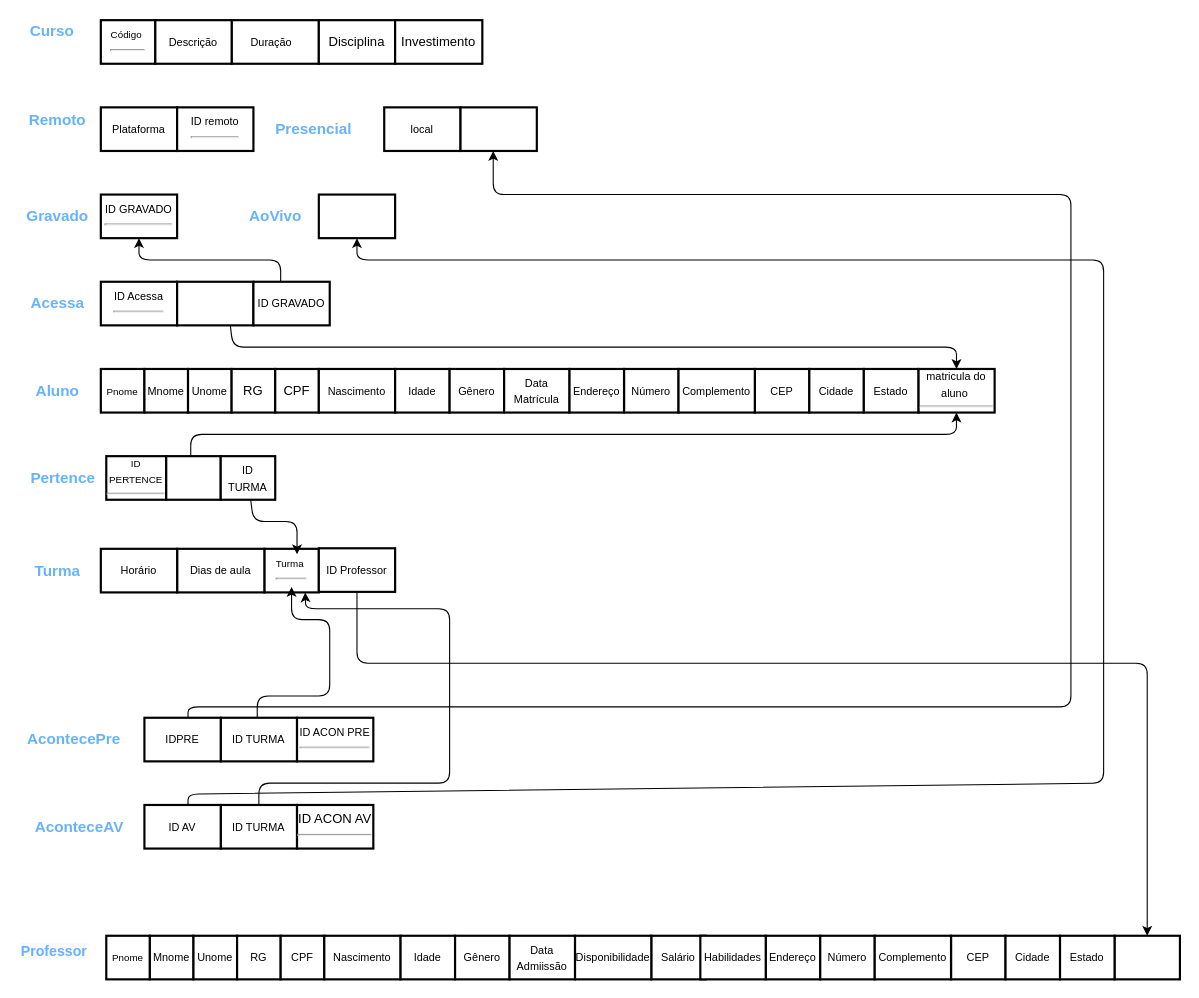
The diagram is 1199 pixels wide and 998 high, and some of its shapes have lost their labels. Each missing label, with the centre of its shape:
ID Ao Vivo: point (356, 216)
ID presencial: point (498, 129)
ID PROF: point (1146, 957)
Matricula Aluno: point (193, 477)
Matrícula Aluno: point (214, 303)
